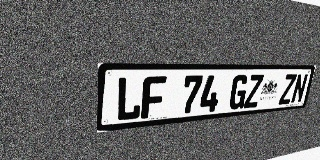4: (199, 75, 222, 113)
7: (179, 75, 203, 115)
F: (141, 76, 167, 119)
G: (228, 75, 249, 110)
L: (116, 76, 143, 122)
N: (290, 74, 308, 103)
Z: (243, 74, 264, 108), (278, 74, 297, 105)
